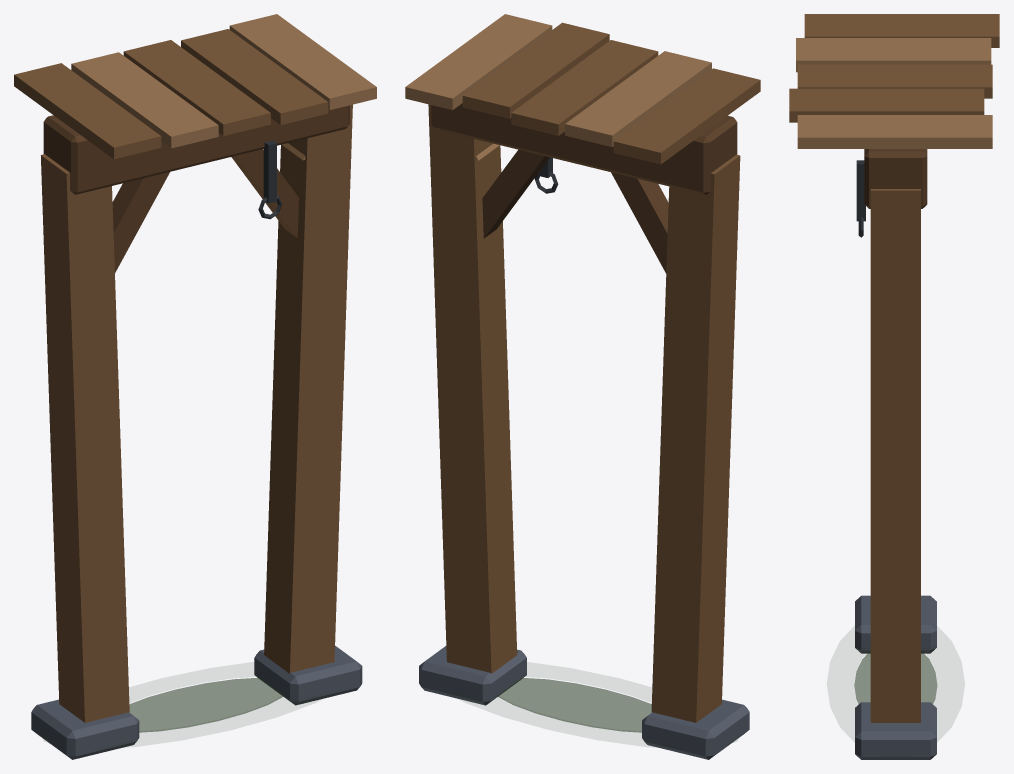
The model's file is support_beam.glb.
3 views of the same model, side by side, from view 1: azimuth 30°, elevation 25°; view 2: azimuth 150°, elevation 25°; view 3: azimuth 270°, elevation 25° (orthographic). The views are drawn at different scales.
Parts seen in each view (by area): view 1: support_beam; view 2: support_beam; view 3: support_beam.
Part boxes in pixels (<box>): support_beam: <box>14,14,376,759</box>; support_beam: <box>405,14,760,759</box>; support_beam: <box>789,14,999,759</box>.
Size of the model in its own units: 1.1 by 2.16 by 0.6689.
